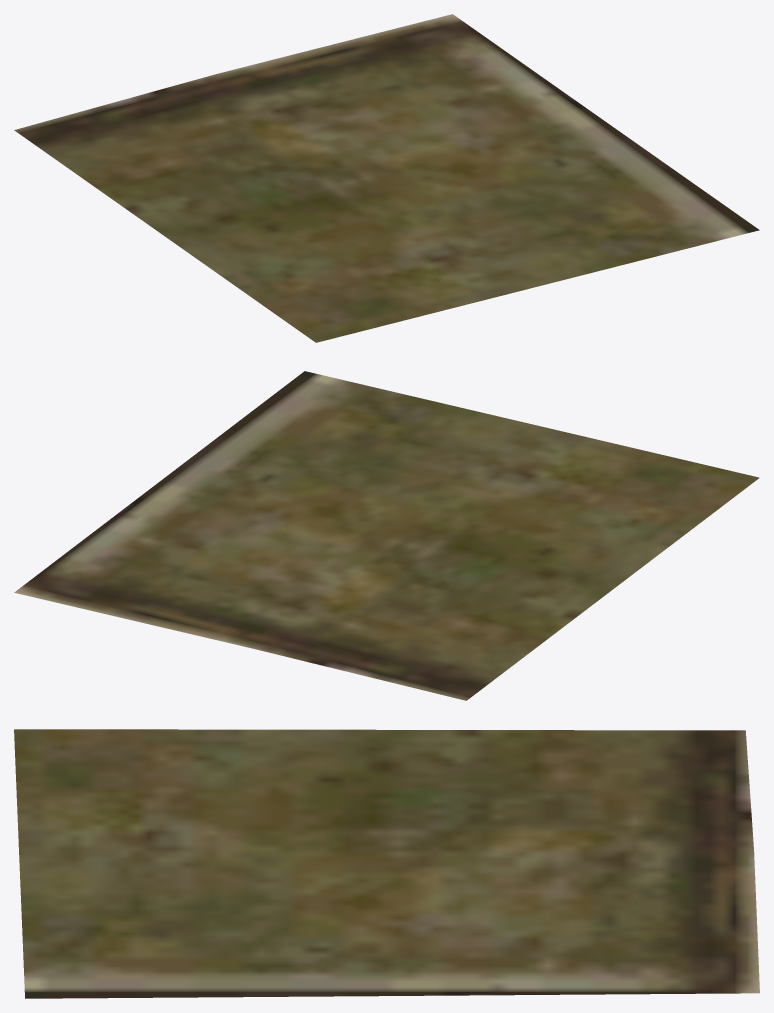
The model's file is CH09_SMAUG_PLAYSURFACE_LAIR503.fbx.
3 renders of one model, top to bottom at view 1: azimuth 30°, elevation 25°; view 2: azimuth 150°, elevation 25°; view 3: azimuth 270°, elevation 25°, orthographic. The views are drawn at different scales.
Visible parts, largest first — view 1: CH09_SMAUG_PLAYSURFACE_LAIR503; view 2: CH09_SMAUG_PLAYSURFACE_LAIR503; view 3: CH09_SMAUG_PLAYSURFACE_LAIR503.
Boxes of the visible parts, x1,y1,x2,y2 form: CH09_SMAUG_PLAYSURFACE_LAIR503: (14, 14, 759, 342); CH09_SMAUG_PLAYSURFACE_LAIR503: (14, 371, 759, 700); CH09_SMAUG_PLAYSURFACE_LAIR503: (14, 729, 759, 998).
Bounding box in the file's own units: 14607 × 107 × 16895.
Materials: 1 (1 with a texture image).
